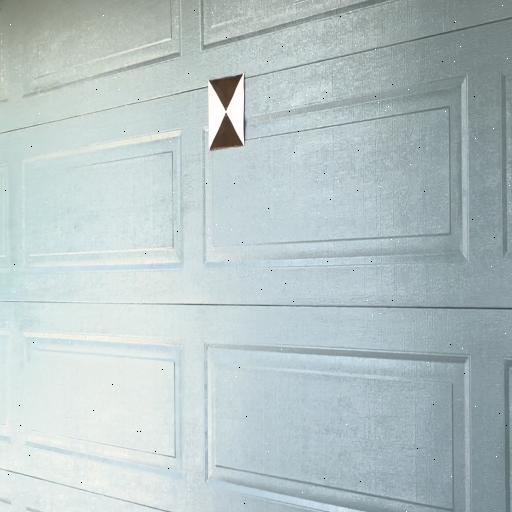target: (207, 72, 245, 151)
